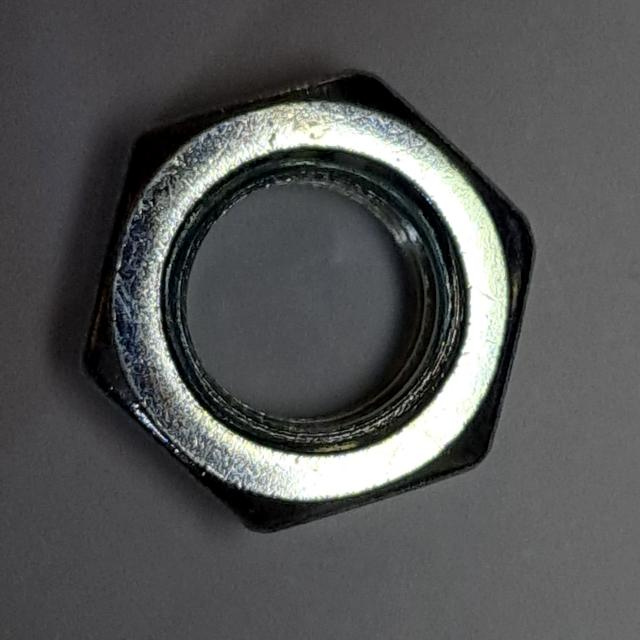Excellent: (70, 55, 545, 545)
